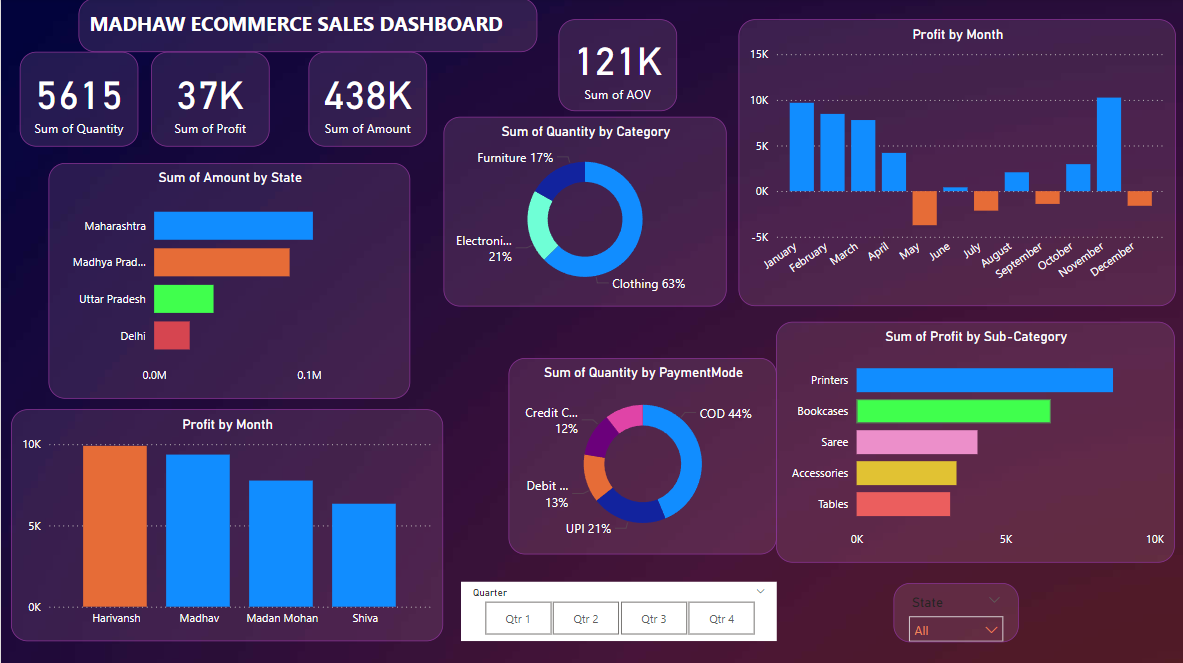

What the dashboard file says about the page in this screenshot:
{"tool":"powerbi","page":{"name":"Page 1","canvas":[1280,720],"ordinal":0},"visuals":[{"type":"textbox","box":[83.8,0,494.5,44],"z":0},{"type":"columnChart","title":" Profit by Month","fields":{"Category":["Orders.Order Date.Variation.Date Hierarchy.Month"],"Y":["Details.Profit"]},"box":[795.7,22.7,471.8,309.8],"z":1000},{"type":"barChart","fields":{"Category":["Details.Sub-Category"],"Y":["Details.Profit"]},"box":[836.9,349.6,430.6,260],"z":2000},{"type":"donutChart","fields":{"Category":["Details.Category"],"Y":["Details.Quantity"]},"box":[477.4,127.9,305.5,204.6],"z":3000},{"type":"donutChart","fields":{"Y":["Details.Quantity"],"Category":["Details.PaymentMode"]},"box":[547.1,387.9,289.9,211.7],"z":4000},{"type":"card","fields":{"Values":["Details.Amount"]},"box":[332.5,58.3,127.9,102.3],"z":5000},{"type":"card","fields":{"Values":["Details.Profit"]},"box":[162,58.3,127.9,102.3],"z":6000},{"type":"card","fields":{"Values":["Details.Quantity"]},"box":[19.9,58.3,127.9,102.3],"z":7000},{"type":"card","fields":{"Values":["Details.AOV"]},"box":[601.1,22.7,127.9,99.5],"z":8000},{"type":"barChart","fields":{"Category":["Orders.State"],"Y":["Details.Amount"]},"box":[51.2,177.6,390.8,254.4],"z":9000},{"type":"columnChart","title":" Profit by Month","fields":{"Category":["Orders.CustomerName"],"Y":["Details.Amount"]},"box":[11.4,443.3,466.1,250.1],"z":10000},{"type":"slicer","fields":{"Values":["Orders.Order Date.Variation.Date Hierarchy.Quarter"]},"box":[495.9,629.5,341,63.9],"z":11000},{"type":"slicer","fields":{"Values":["Orders.State"]},"box":[963.4,630.9,135,63.9],"z":11001}]}

Visuals, with their boxes in screenshot pixels (x1, y1, x2, y2), scaled from the page's 1280x720 canvas onto the 1183x663 screenshot:
textbox: bbox=(77, 0, 534, 41)
" Profit by Month" columnChart: bbox=(735, 21, 1171, 306)
barChart - Details.Sub-Category x Details.Profit: bbox=(773, 322, 1171, 561)
donutChart - Details.Category x Details.Quantity: bbox=(441, 118, 724, 306)
donutChart - Details.Quantity x Details.PaymentMode: bbox=(506, 357, 774, 552)
card - Details.Amount: bbox=(307, 54, 426, 148)
card - Details.Profit: bbox=(150, 54, 268, 148)
card - Details.Quantity: bbox=(18, 54, 137, 148)
card - Details.AOV: bbox=(556, 21, 674, 113)
barChart - Orders.State x Details.Amount: bbox=(47, 164, 409, 398)
" Profit by Month" columnChart: bbox=(11, 408, 441, 639)
slicer - Orders.Order Date.Variation.Date Hierarchy.Quarter: bbox=(458, 580, 773, 639)
slicer - Orders.State: bbox=(890, 581, 1015, 640)
